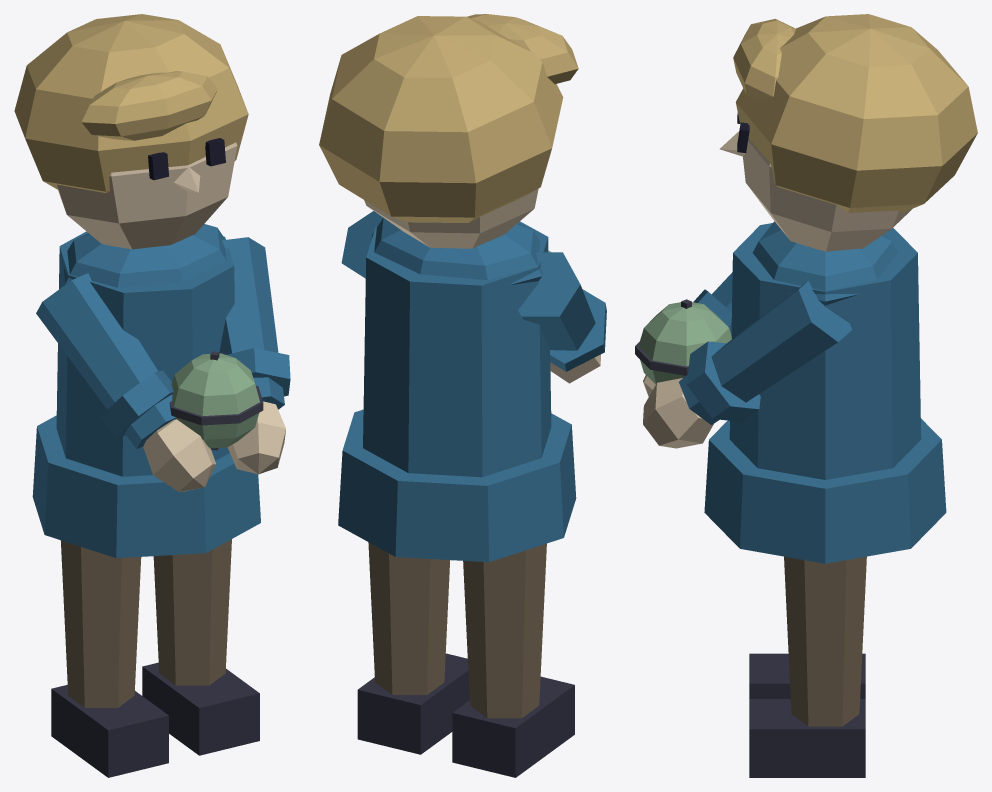
Rendered from yard_lad.glb.
The picture shows the model from 3 angles, left to right: view 1: azimuth 30°, elevation 25°; view 2: azimuth 150°, elevation 25°; view 3: azimuth 270°, elevation 25°; orthographic projection. The views are drawn at different scales.
Visible parts, largest first — view 1: Torso, Head, LegR, LegL, ArmR, ArmL; view 2: Torso, Head, LegR, LegL, ArmR, ArmL; view 3: Torso, Head, LegL, ArmL, LegR, ArmR.
Part boxes in pixels (x1,y1,x2,y2): Torso: (32, 224, 263, 558); Head: (14, 14, 248, 249); LegR: (51, 540, 168, 777); LegL: (142, 539, 259, 755); ArmR: (36, 273, 215, 491); ArmL: (219, 237, 290, 474); Torso: (338, 218, 576, 562); Head: (319, 14, 578, 248); LegR: (452, 543, 574, 777); LegL: (357, 542, 469, 754); ArmR: (518, 252, 606, 383); ArmL: (341, 211, 383, 278); Torso: (635, 221, 946, 563); Head: (719, 14, 977, 251); LegL: (749, 556, 866, 777); ArmL: (643, 280, 852, 448); LegR: (749, 653, 865, 698); ArmR: (643, 272, 732, 396).
Size of the model in its own units: 0.4701 by 1.4 by 0.6123.
